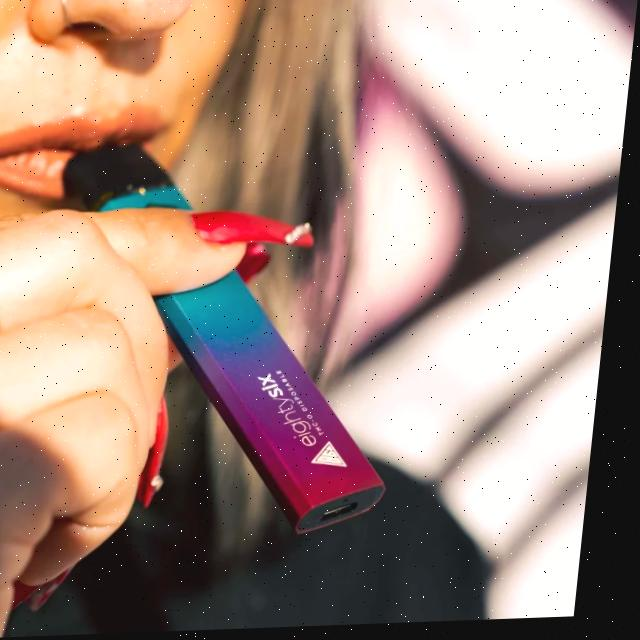vape: (32, 131, 427, 544)
